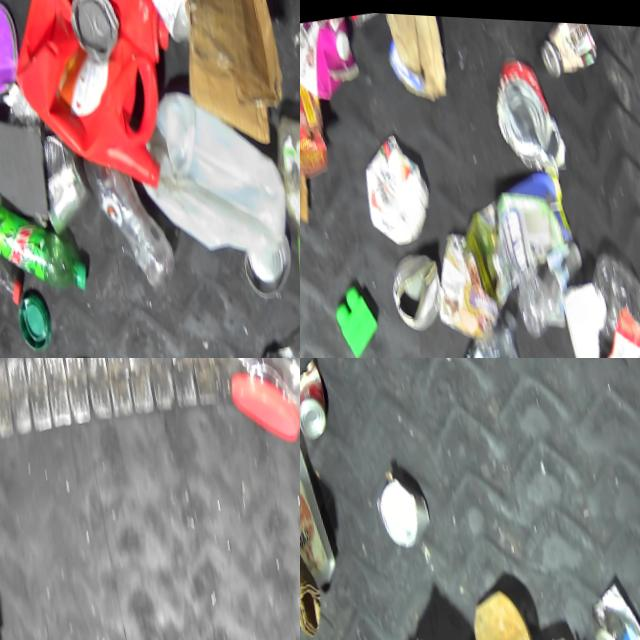can: (487, 48, 571, 175), (32, 124, 101, 238), (372, 465, 436, 552), (387, 244, 450, 331), (238, 225, 300, 301), (584, 569, 640, 640), (300, 358, 336, 445)
milk_jug: (123, 67, 299, 272), (300, 404, 343, 597)
non_white_jug: (0, 0, 199, 213), (300, 9, 365, 111)
plastic_bottle: (80, 142, 185, 303), (509, 231, 598, 339), (418, 299, 553, 358), (584, 234, 640, 358), (114, 0, 204, 51), (0, 169, 28, 321)
